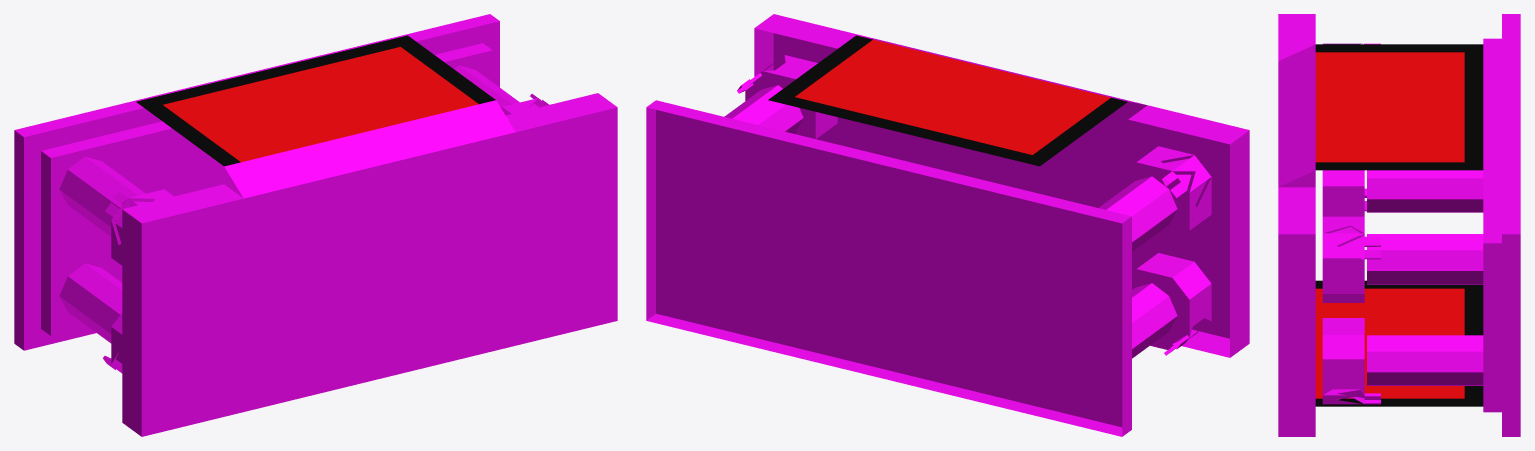
The model's file is chaosaltar.obj.
3 renders of one model, left to right at view 1: azimuth 30°, elevation 25°; view 2: azimuth 150°, elevation 25°; view 3: azimuth 270°, elevation 25°, orthographic. The views are drawn at different scales.
Parts seen in each view (by area): view 1: chaosaltar; view 2: chaosaltar; view 3: chaosaltar.
Boxes of the visible parts, x1,y1,x2,y2 form: chaosaltar: (14, 14, 617, 436); chaosaltar: (646, 14, 1249, 436); chaosaltar: (1278, 14, 1520, 436).
Bounding box in the file's own units: 2.24 × 1.12 × 1.04.
